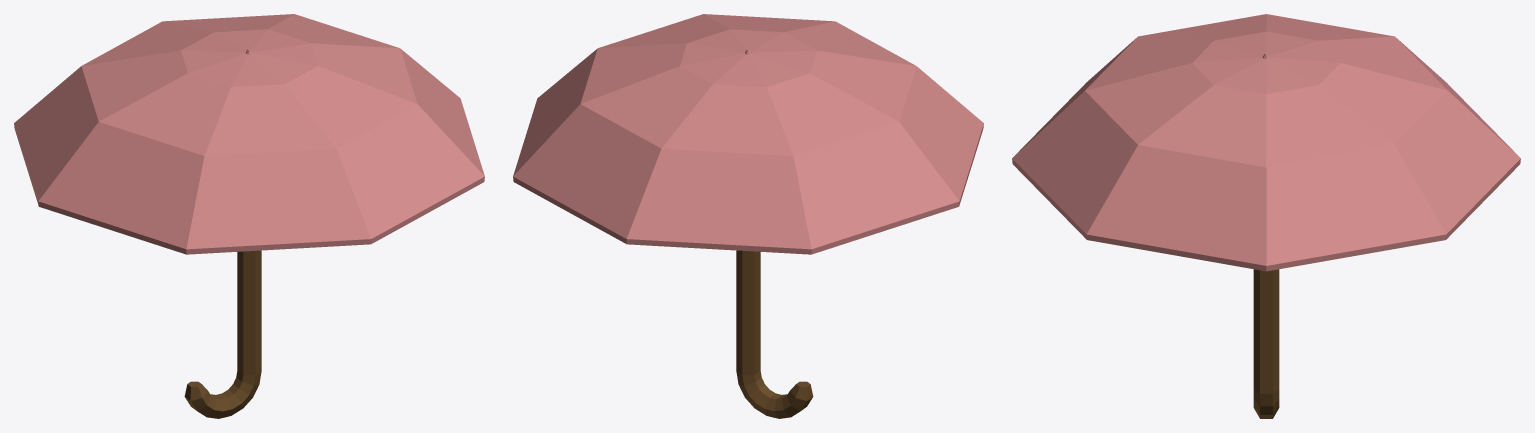
File: Umbrella.fbx
3 renders of one model, left to right at view 1: azimuth 30°, elevation 25°; view 2: azimuth 150°, elevation 25°; view 3: azimuth 270°, elevation 25°, orthographic. The views are drawn at different scales.
Parts seen in each view (by area): view 1: Canopy, Staff; view 2: Canopy, Staff; view 3: Canopy, Staff.
Part boxes in pixels (left/top/right/bottom): Canopy: left=14, top=14, right=484, bottom=254; Staff: left=184, top=250, right=261, bottom=418; Canopy: left=513, top=14, right=983, bottom=254; Staff: left=736, top=250, right=813, bottom=418; Canopy: left=1012, top=14, right=1520, bottom=271; Staff: left=1253, top=269, right=1279, bottom=418.
Bounding box in the file's own units: 400 × 325 × 400.
